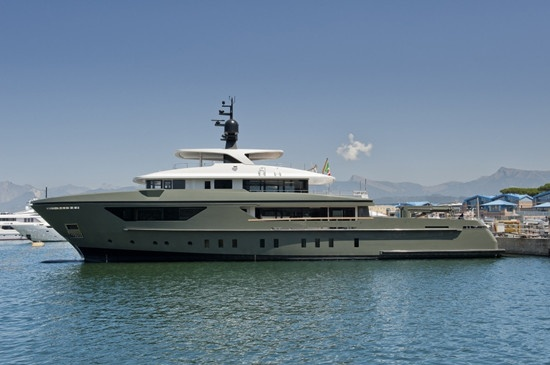yacht: (33, 98, 498, 265)
